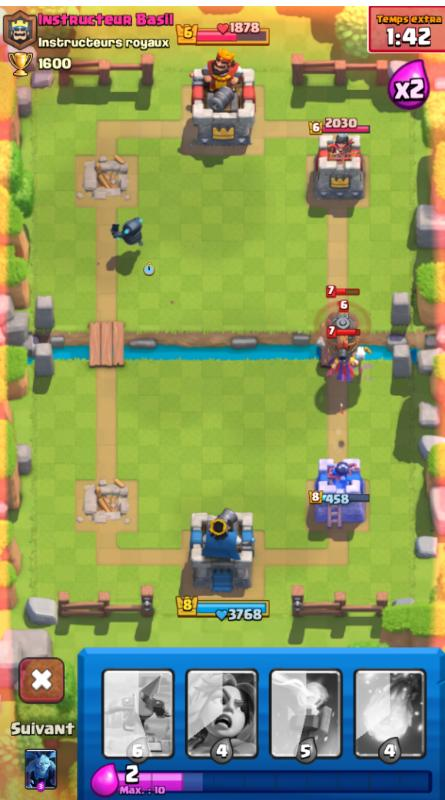mini_PEKKA: (108, 213, 153, 259)
